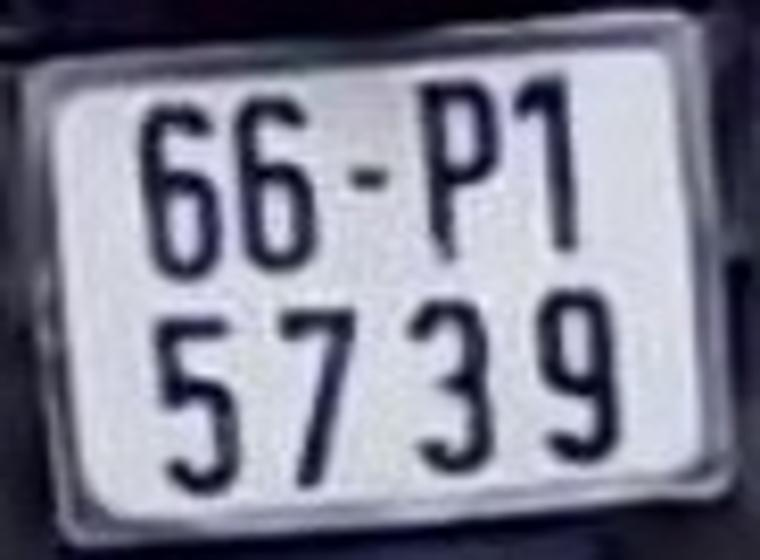-: (347, 162, 389, 191)
1: (517, 69, 587, 254)
3: (402, 292, 495, 473)
5: (149, 318, 250, 501)
6: (230, 87, 326, 273), (134, 96, 222, 286)
7: (273, 301, 365, 493)
9: (530, 286, 625, 464)
P: (408, 75, 514, 266)
